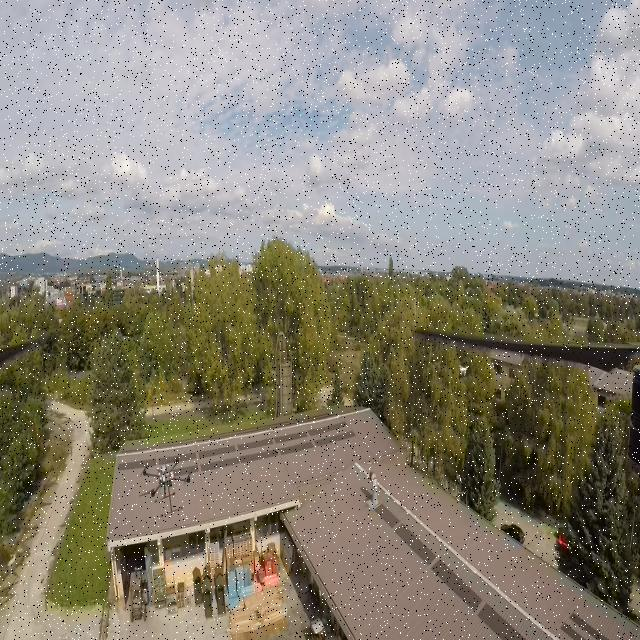UAV: (138, 446, 194, 518)
